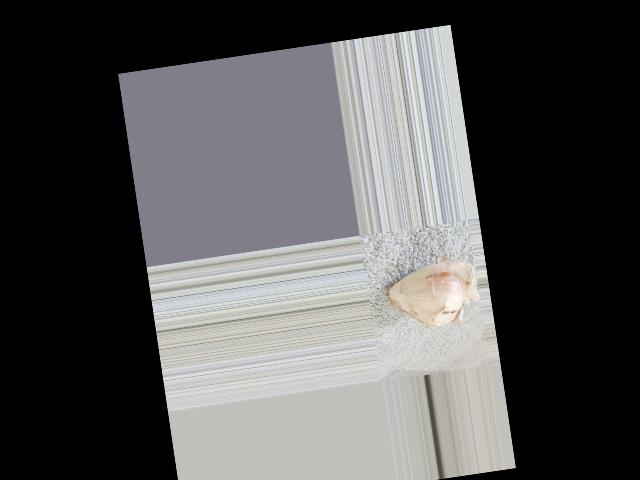onion: (383, 264, 465, 334)
